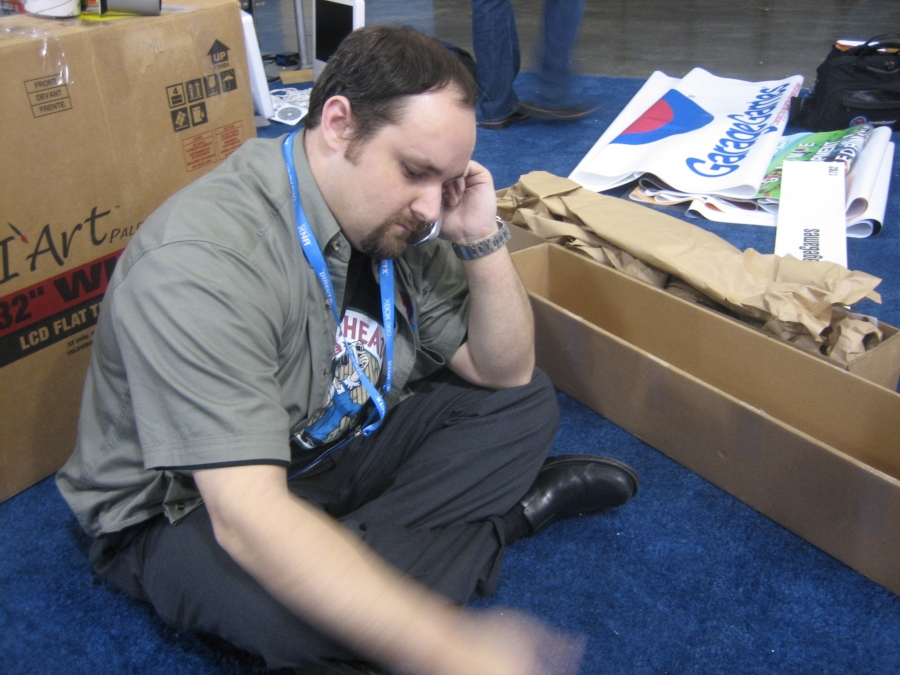phone: (427, 174, 494, 272)
